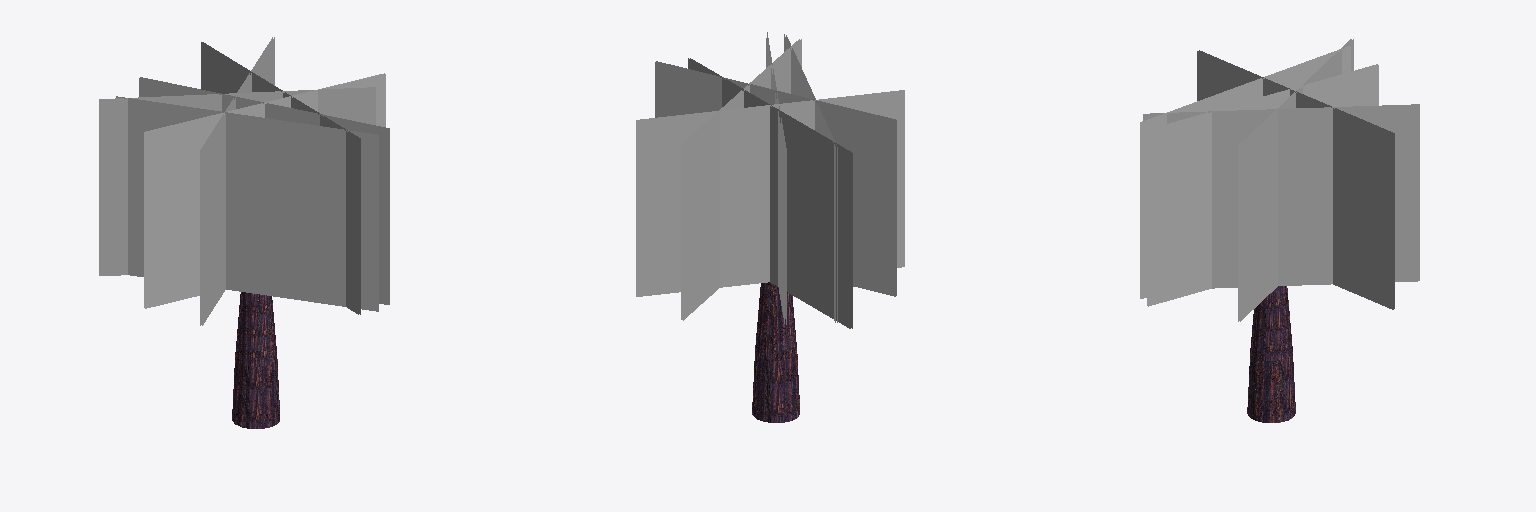
The picture shows the model from 3 angles: view 1: azimuth 30°, elevation 25°; view 2: azimuth 150°, elevation 25°; view 3: azimuth 270°, elevation 25°; orthographic projection.
Parts seen in each view (by area): view 1: Plane.001_Plane.002, Plane; view 2: Plane.001_Plane.002, Plane; view 3: Plane.001_Plane.002, Plane.
Boxes of the visible parts, <box> form: Plane.001_Plane.002: <box>99,37,389,325</box>; Plane: <box>232,292,279,428</box>; Plane.001_Plane.002: <box>636,32,904,328</box>; Plane: <box>752,282,799,422</box>; Plane.001_Plane.002: <box>1140,39,1419,321</box>; Plane: <box>1247,286,1295,422</box>.
Bounding box in the file's own units: 0.6006 × 0.7563 × 0.6042.
Materials: 2 (1 with a texture image).